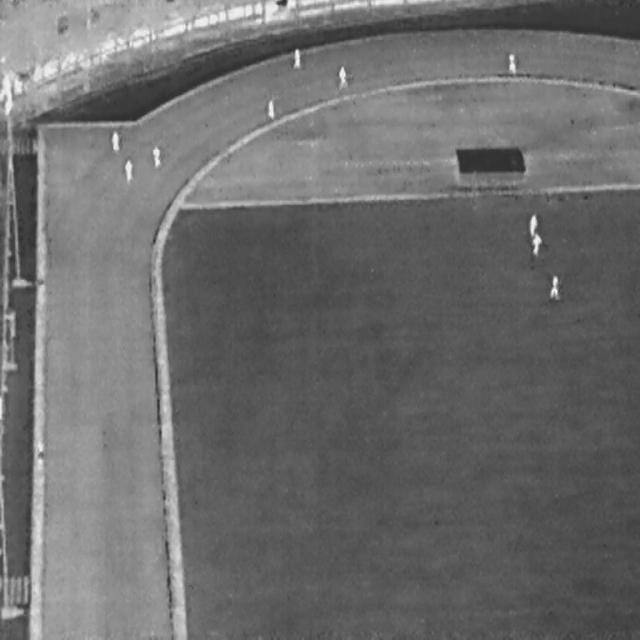Person: (531, 233, 541, 255), (152, 145, 161, 169), (528, 212, 537, 236), (338, 64, 347, 88), (124, 158, 132, 182), (550, 274, 558, 298), (110, 130, 119, 151), (266, 96, 274, 119), (292, 48, 301, 68), (36, 444, 44, 466), (507, 52, 515, 72)
